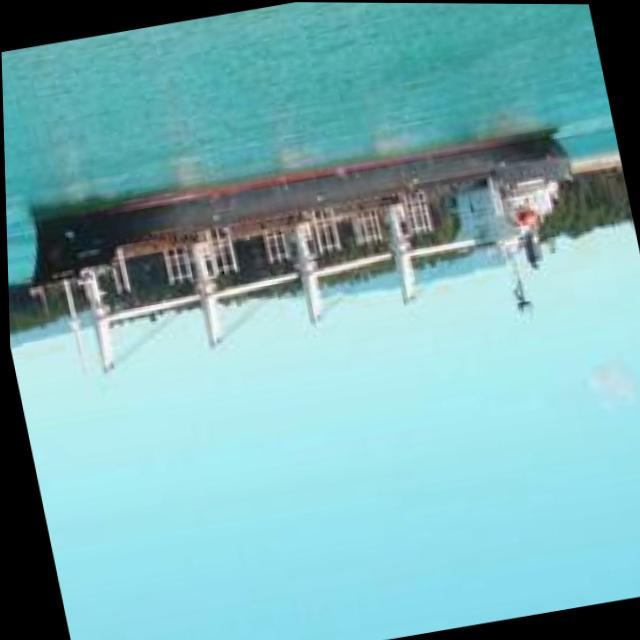ship2: (29, 126, 573, 393)
